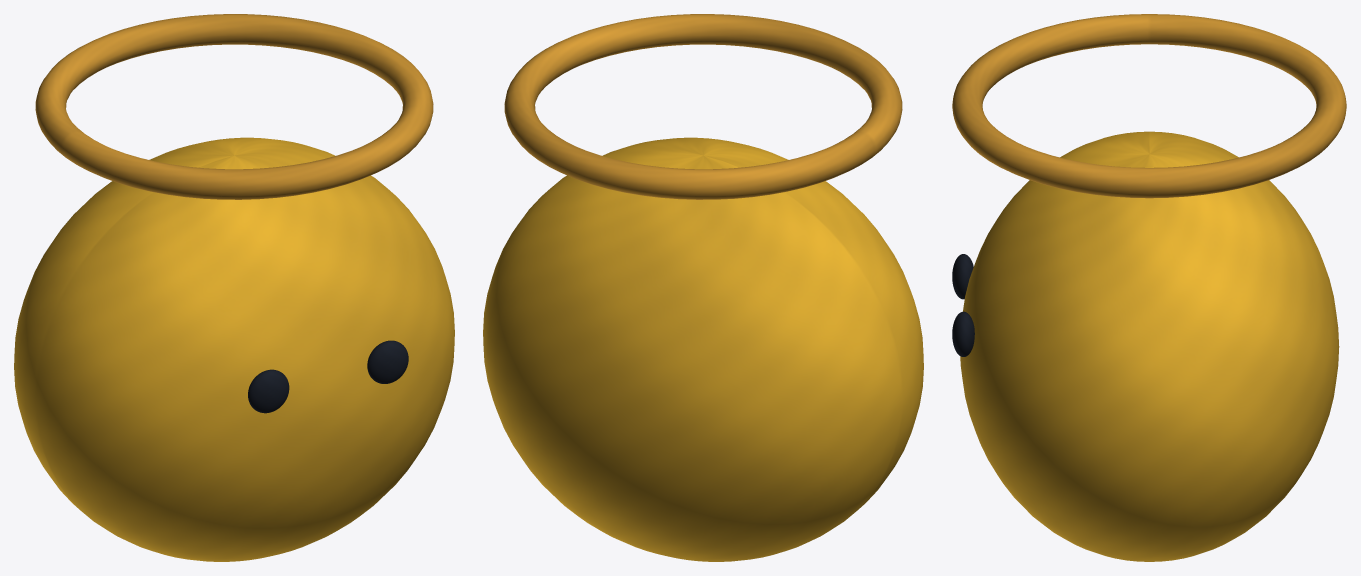
File: Acolyte_pet.glb
3 views of the same model, side by side, from view 1: azimuth 30°, elevation 25°; view 2: azimuth 150°, elevation 25°; view 3: azimuth 270°, elevation 25° (orthographic).
Parts seen in each view (by area): view 1: Body, Halo, Eye.001, Eye; view 2: Body, Halo; view 3: Body, Halo, Eye.001, Eye.
Boxes of the visible parts, left/top/right/bottom form: Body: left=14, top=137, right=454, bottom=561; Halo: left=35, top=14, right=433, bottom=199; Eye.001: left=367, top=340, right=408, bottom=383; Eye: left=248, top=369, right=289, bottom=413; Body: left=483, top=137, right=923, bottom=561; Halo: left=504, top=14, right=902, bottom=199; Body: left=960, top=131, right=1339, bottom=561; Halo: left=952, top=14, right=1346, bottom=198; Eye.001: left=952, top=311, right=974, bottom=356; Eye: left=952, top=254, right=973, bottom=299.
Size of the model in its own units: 1.2 by 1.3 by 1.04.
3 materials, 3 textured.
